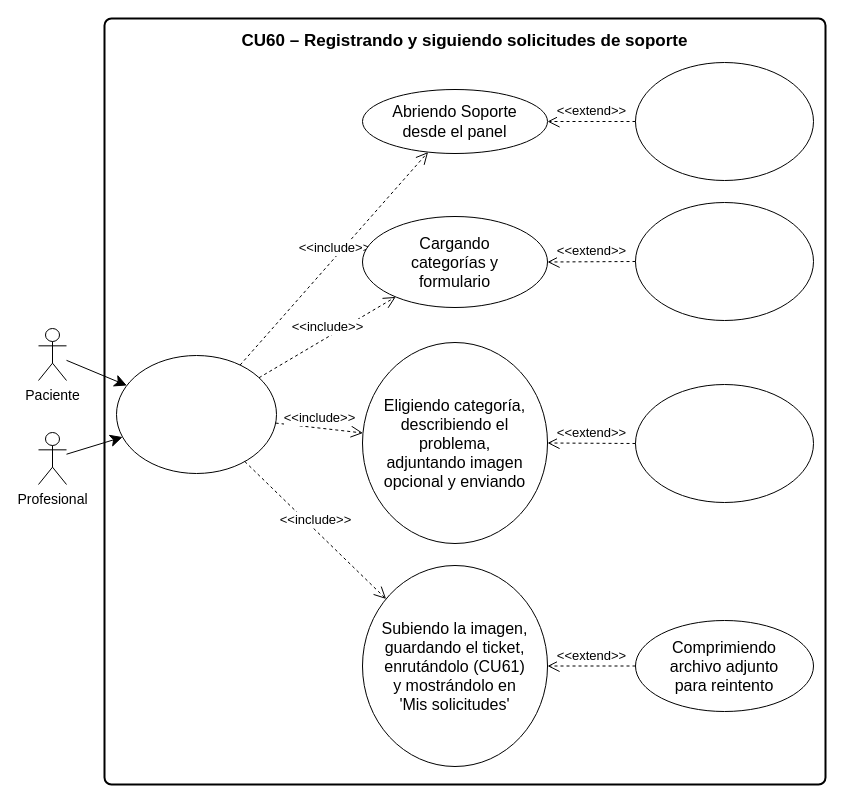
Some shapes in this 843 by 802 pixel diagram are drawn without their labels. Here are the shapes that lost their labels. From the top down, the centre of each, then its label:
[724,121]: Reanudando operación tras estabilizar conectividad
[724,261]: Rechazando el adjunto y ofreciendo enviar sin imagen
[196,414]: Registrando y siguiendo solicitudes de soporte
[724,443]: Corrigiendo variables obligatorias faltantes
